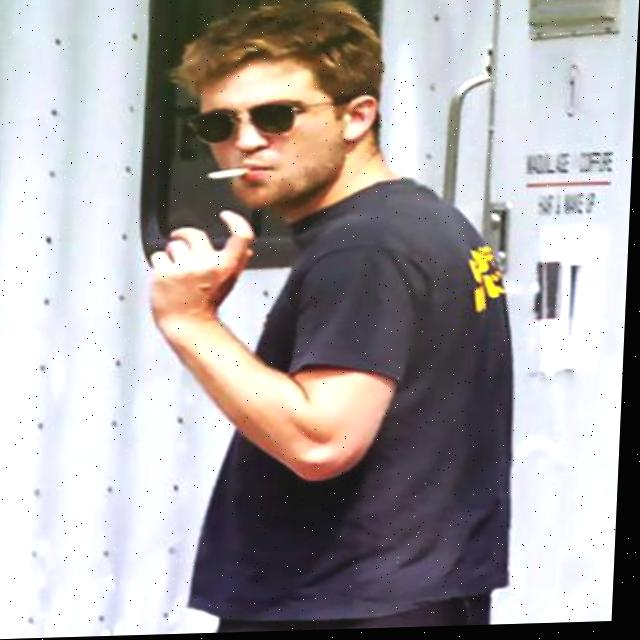cigarette: (204, 169, 251, 185)
